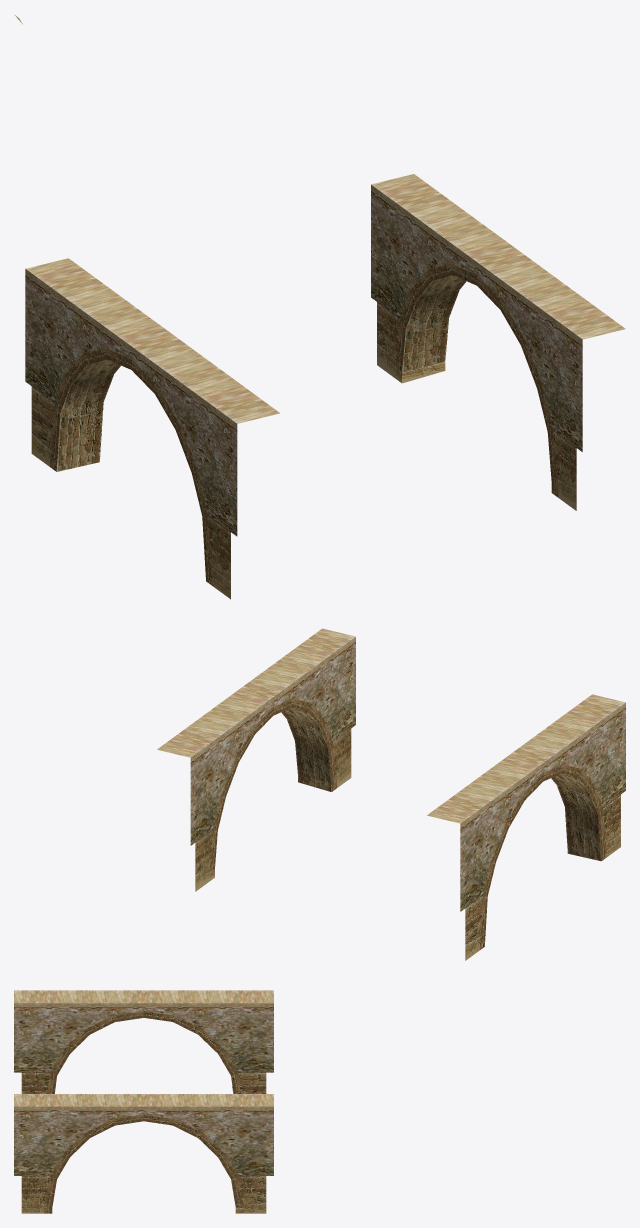
File: Mission8_VillageRadioShackExt_A.glb
3 renders of one model, top to bottom at view 1: azimuth 30°, elevation 25°; view 2: azimuth 150°, elevation 25°; view 3: azimuth 270°, elevation 25°, orthographic. The views are drawn at different scales.
Parts seen in each view (by area): view 1: MISSION8_VILLAGERADIOSHACKEXT_A; view 2: MISSION8_VILLAGERADIOSHACKEXT_A; view 3: MISSION8_VILLAGERADIOSHACKEXT_A.
Boxes of the visible parts, left/top/right/bottom form: MISSION8_VILLAGERADIOSHACKEXT_A: left=15, top=15, right=625, bottom=599; MISSION8_VILLAGERADIOSHACKEXT_A: left=157, top=628, right=625, bottom=960; MISSION8_VILLAGERADIOSHACKEXT_A: left=14, top=990, right=273, bottom=1213.
Bounding box in the file's own units: 9 × 4.01 × 20.
3 materials, 3 textured.
